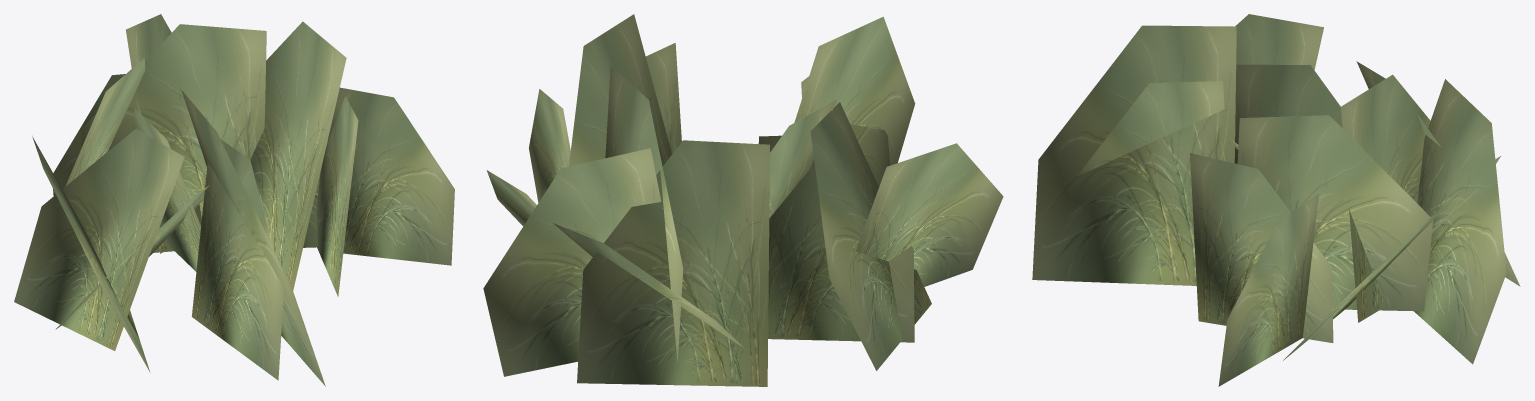
The model's file is Preset_Plant_RoughgrassA.fbx.
3 renders of one model, left to right at view 1: azimuth 30°, elevation 25°; view 2: azimuth 150°, elevation 25°; view 3: azimuth 270°, elevation 25°, orthographic. The views are drawn at different scales.
Parts seen in each view (by area): view 1: Plant_Roughgrass; view 2: Plant_Roughgrass; view 3: Plant_Roughgrass.
Boxes of the visible parts, <box> form: Plant_Roughgrass: <box>14,14,454,386</box>; Plant_Roughgrass: <box>483,14,1003,386</box>; Plant_Roughgrass: <box>1032,14,1520,386</box>.
Size of the model in its own units: 126 by 133 by 76.98.
1 material, 1 textured.
